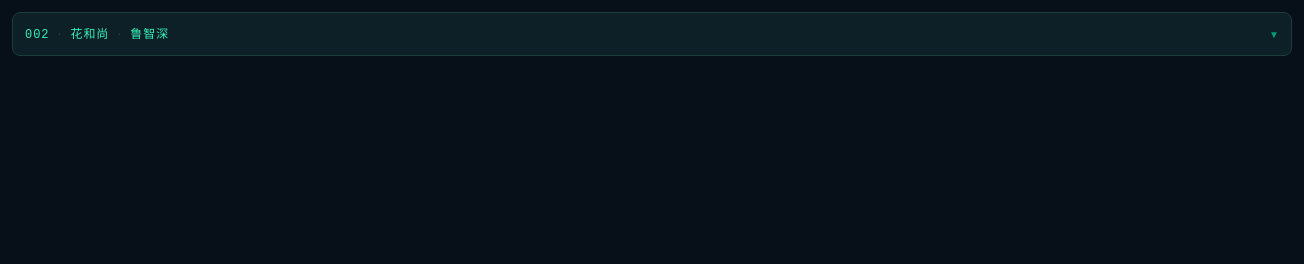
Scenario: CharacterListbox keyboard interaction › 关闭后会清空搜索条件，重开恢复完整列表
Click the button with aria-label "选择卡片" at (90,34), box [12,12,1292,56]
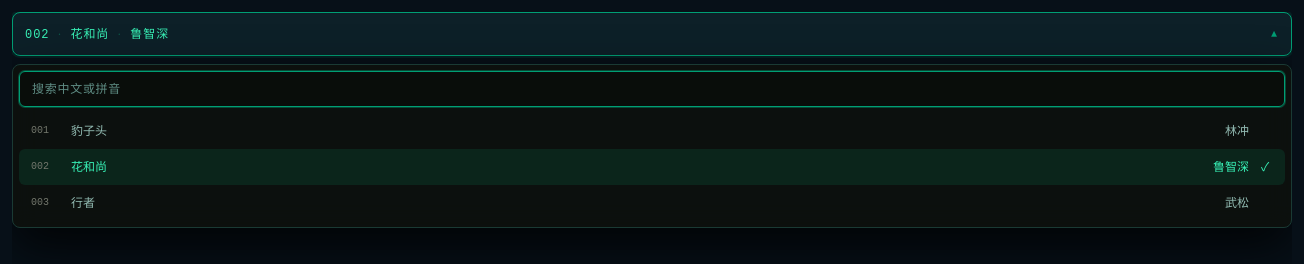
Type "不存在" into the search field named "搜索卡片" at (652,89), box [19,71,1285,107]
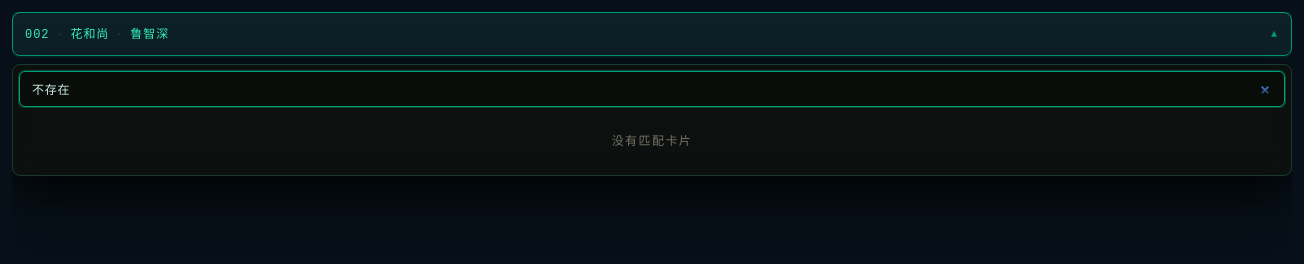
Expected: the option is gone
Click the button with aria-label "选择卡片" at (90,34), box [12,12,1292,56]
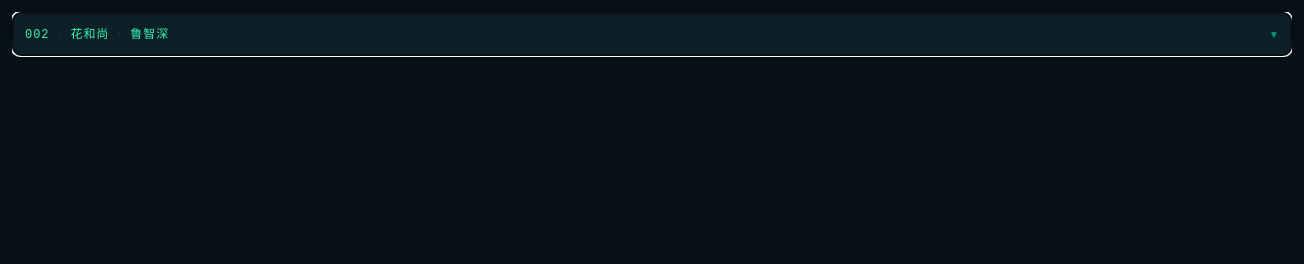
Expected: the list is gone
Click the button with aria-label "选择卡片" at (90,34), box [12,12,1292,56]
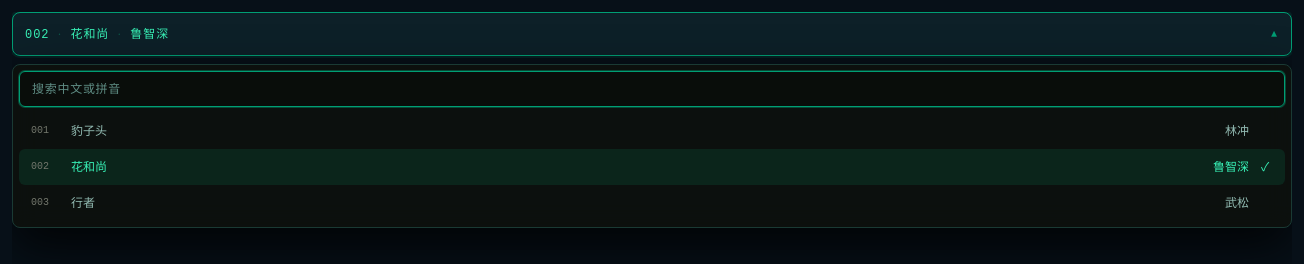
Expected: the number of options is 3, [19,113,1285,149]; [19,149,1285,185]; [19,185,1285,221]
